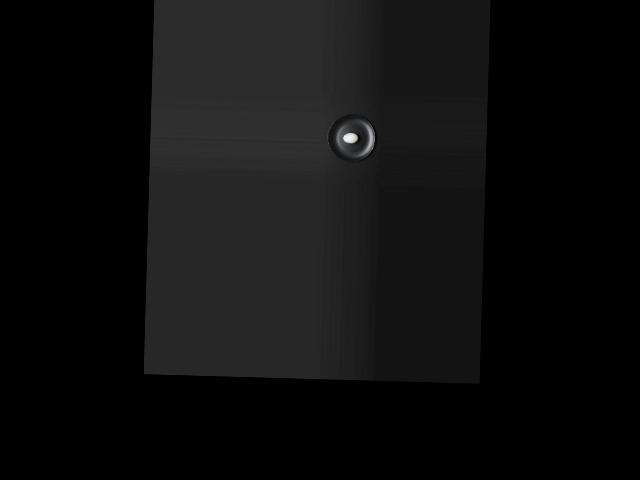egg: (343, 132, 358, 143)
